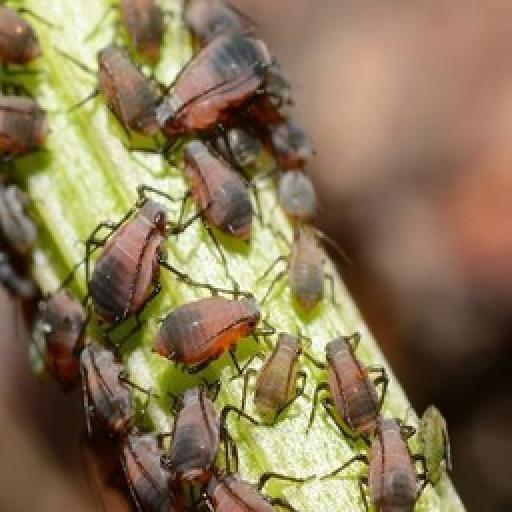insects: (154, 28, 290, 144), (84, 194, 174, 328), (150, 290, 266, 374), (316, 328, 390, 446), (76, 338, 148, 454), (180, 138, 258, 244), (92, 42, 168, 140), (158, 386, 222, 500), (26, 286, 92, 392), (94, 436, 186, 512), (360, 414, 426, 512), (248, 324, 308, 428), (398, 402, 456, 506), (0, 180, 42, 304), (286, 220, 330, 320), (260, 98, 318, 170), (114, 0, 168, 68), (0, 92, 46, 162), (184, 466, 252, 512), (0, 0, 42, 66), (276, 168, 320, 224)
